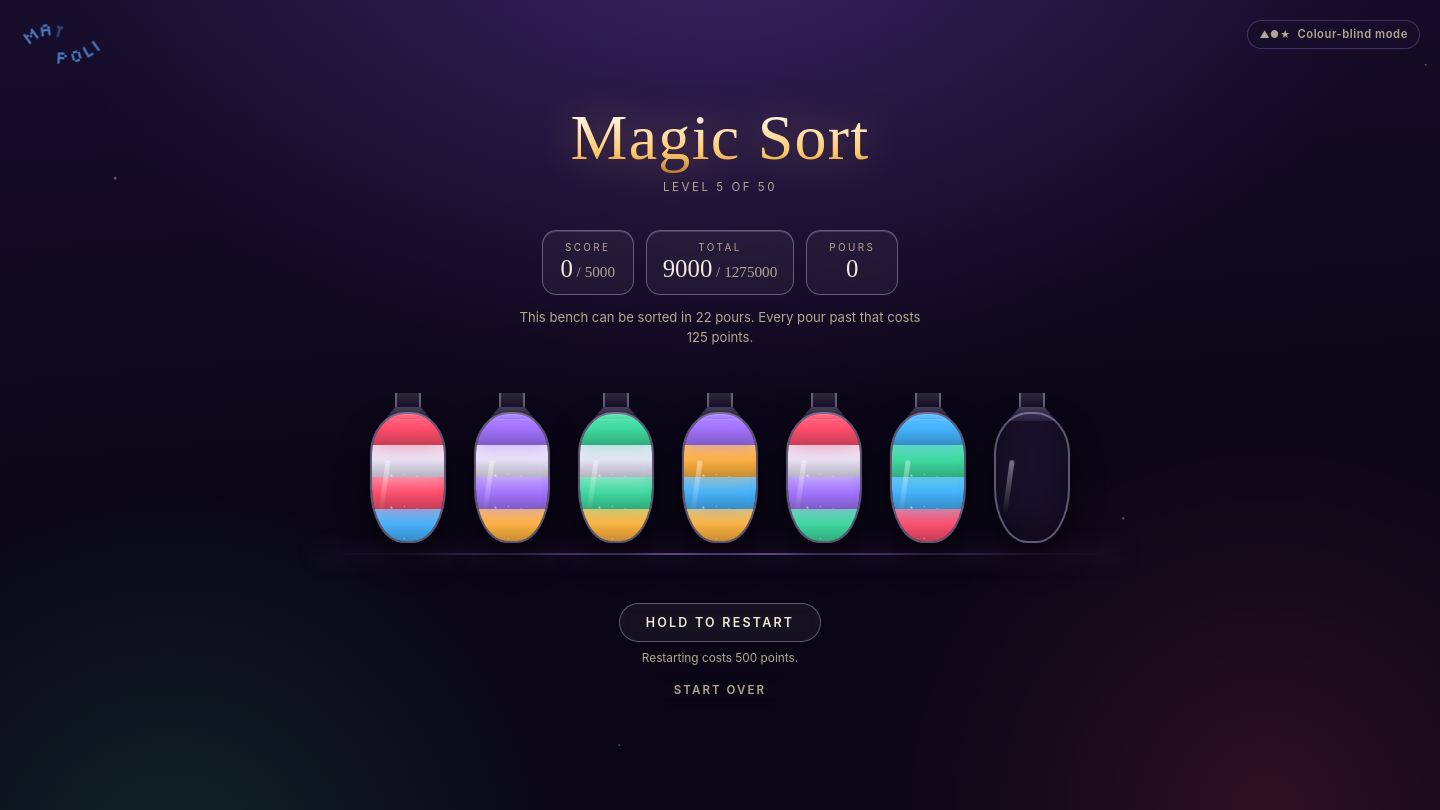
Test case: App › hands the apprentice a clean bench and an empty ledger once the run is over
Expected: the text "Level 5 of 50" is shown, [663, 180, 777, 194]
Click the button "Start over" at {"x": 720, "y": 690}, box [647, 671, 793, 710]
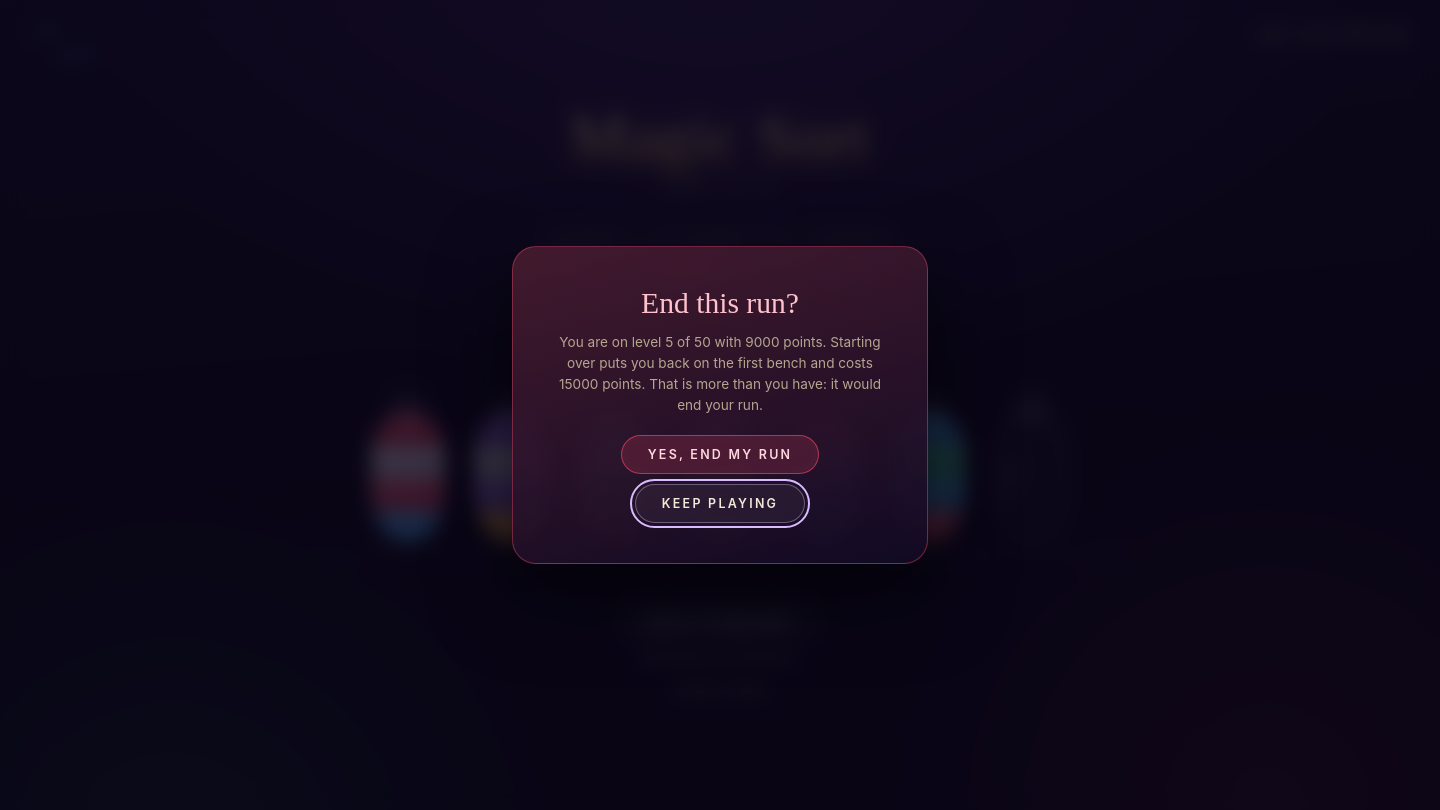
Click the button "Yes, end my run" at {"x": 720, "y": 454}, box [621, 435, 819, 474]
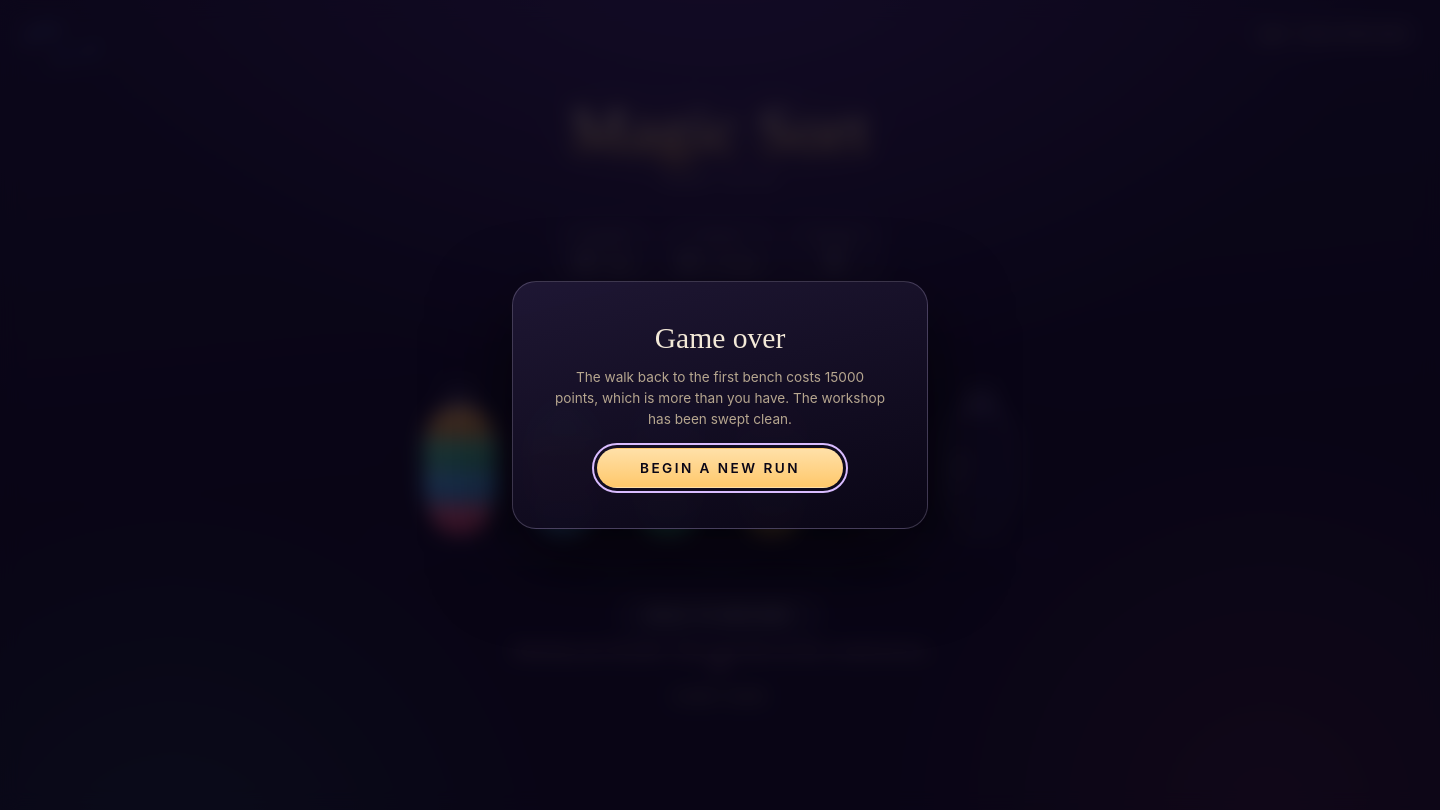
Click the button "Begin a new run" at {"x": 720, "y": 468}, box [597, 448, 843, 488]
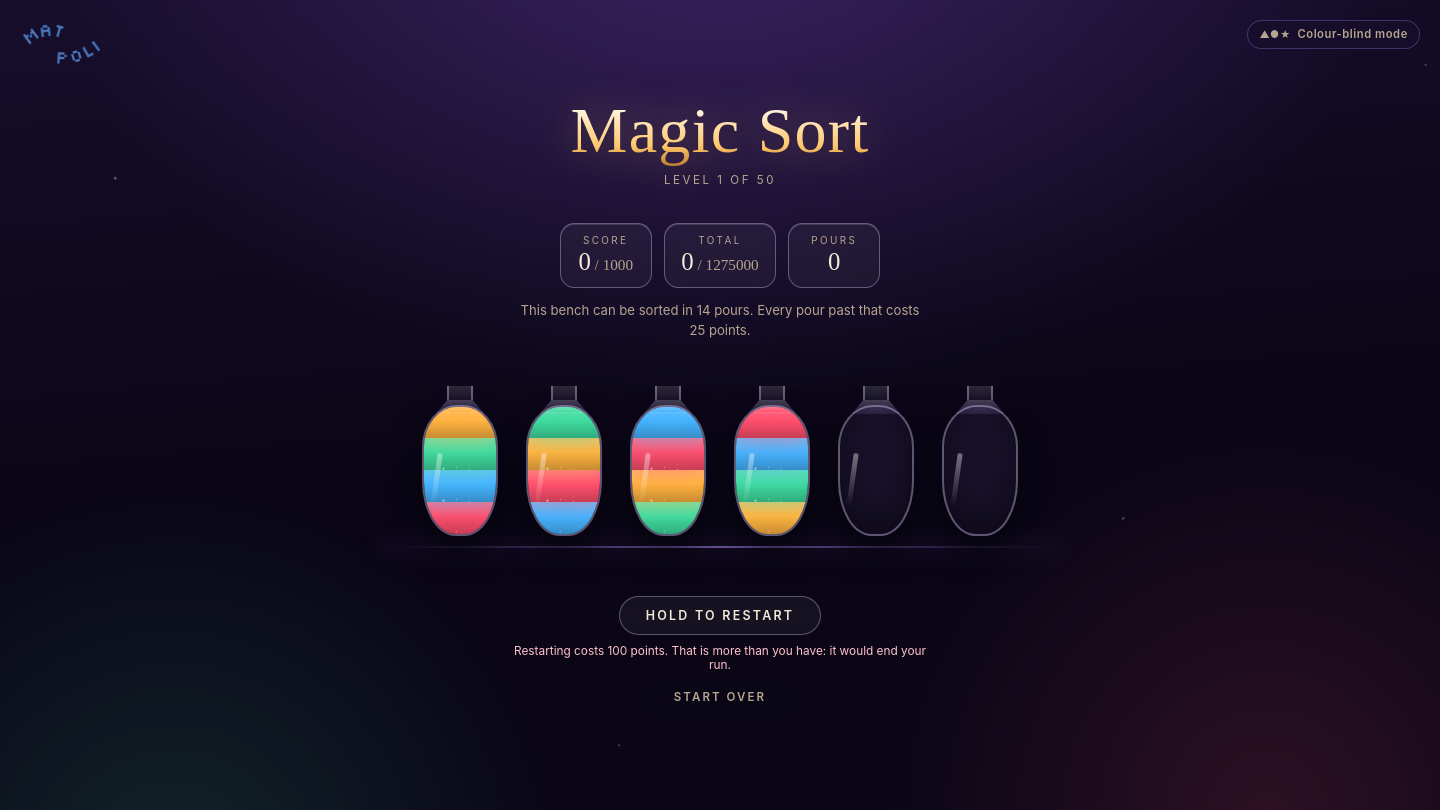
Now the element named "Total" reads "0 / 1275000", box [681, 248, 759, 276]
Now the text "Level 1 of 50" is shown, box [664, 173, 776, 187]
Now the dialog is gone
